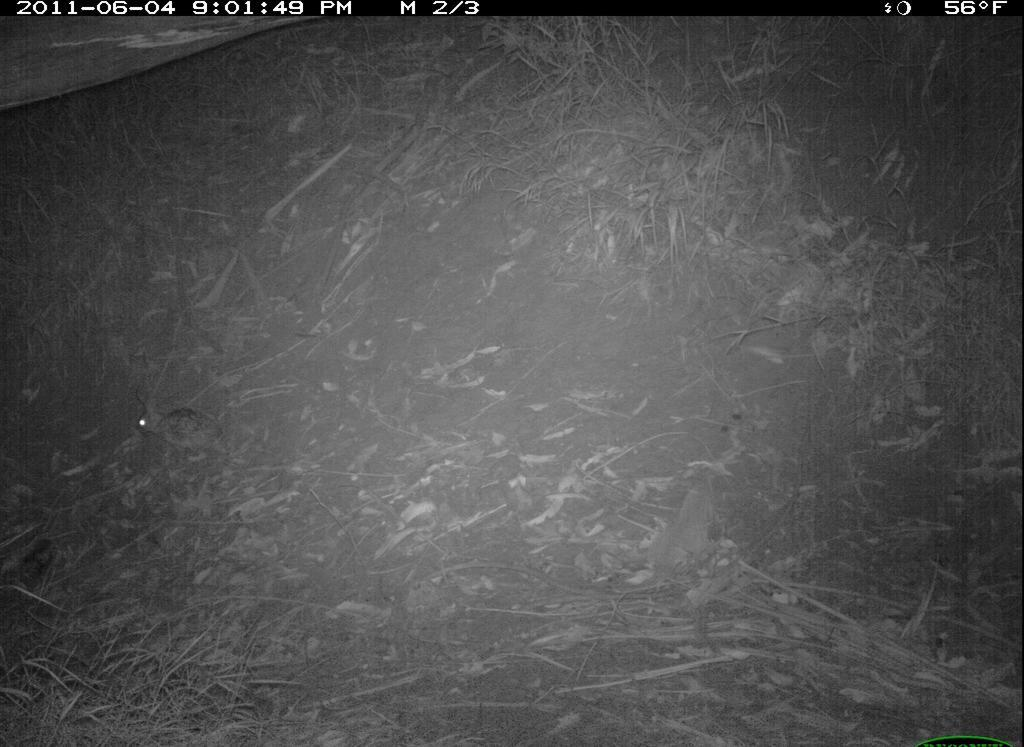rabbit: (126, 390, 254, 463)
